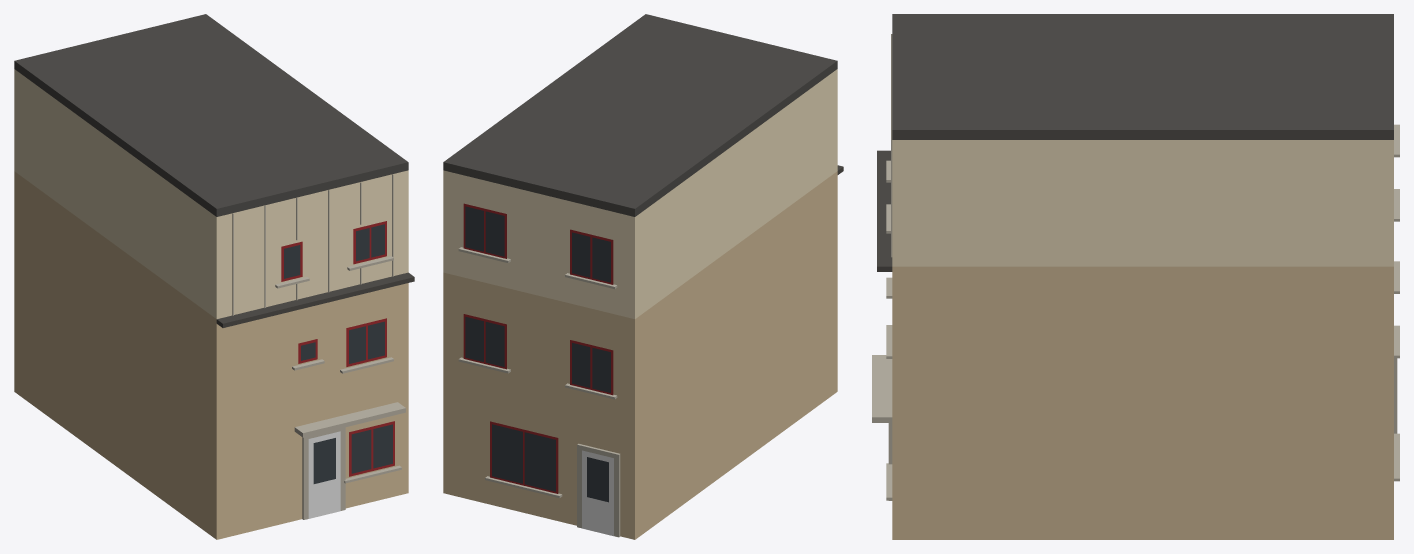
The model's file is nw-ma-clad-top__buff__3__flat__long__solid__f0d0__mirror.glb.
The picture shows the model from 3 angles, left to right: view 1: azimuth 30°, elevation 25°; view 2: azimuth 150°, elevation 25°; view 3: azimuth 270°, elevation 25°; orthographic projection. The views are drawn at different scales.
Visible parts, largest first — view 1: nw-ma-clad-top__buff__3__flat__long__solid__f0d0__mirror; view 2: nw-ma-clad-top__buff__3__flat__long__solid__f0d0__mirror; view 3: nw-ma-clad-top__buff__3__flat__long__solid__f0d0__mirror.
Part boxes in pixels (<box>): nw-ma-clad-top__buff__3__flat__long__solid__f0d0__mirror: <box>14,14,414,539</box>; nw-ma-clad-top__buff__3__flat__long__solid__f0d0__mirror: <box>443,14,843,539</box>; nw-ma-clad-top__buff__3__flat__long__solid__f0d0__mirror: <box>872,14,1399,539</box>.
Bounding box in the file's own units: 5.39 × 8.9 × 10.38.
